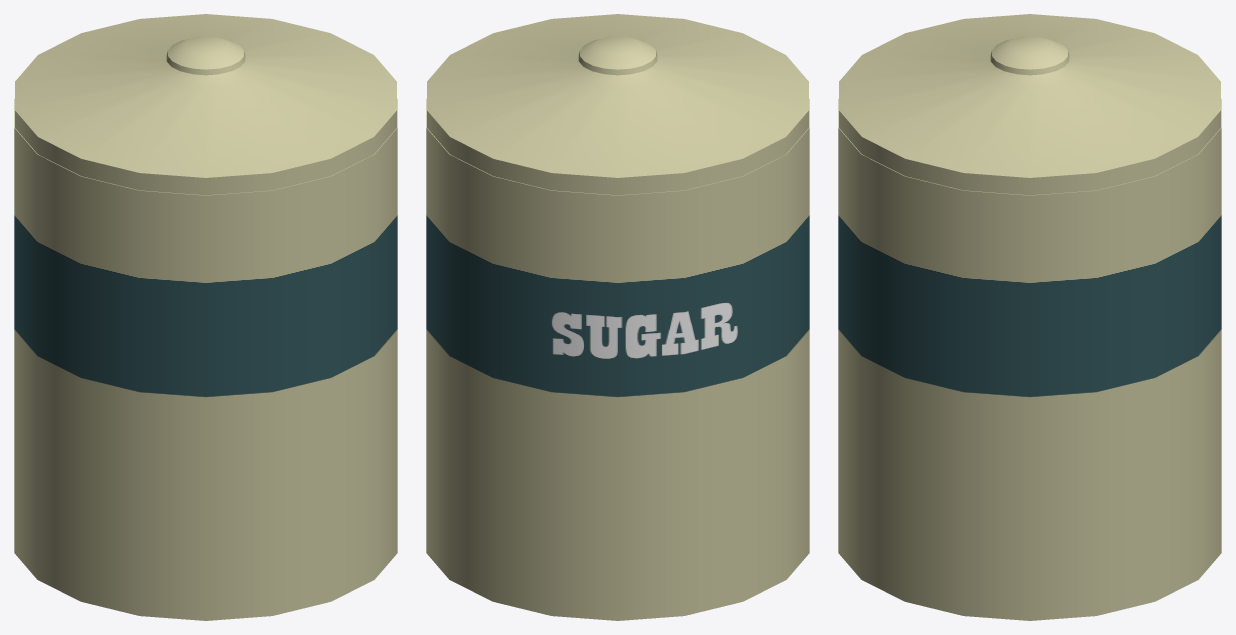
Rendered from SugarJar.fbx.
3 renders of one model, left to right at view 1: azimuth 30°, elevation 25°; view 2: azimuth 150°, elevation 25°; view 3: azimuth 270°, elevation 25°, orthographic.
Visible parts, largest first — view 1: Jar, Top; view 2: Jar, Top; view 3: Jar, Top.
Boxes of the visible parts, x1,y1,x2,y2 form: Jar: (14,99,397,620); Top: (15,14,396,195); Jar: (426,99,809,620); Top: (427,14,808,195); Jar: (838,99,1221,620); Top: (839,14,1220,195).
Size of the model in its own units: 12 by 16.78 by 11.82.
Materials: 1 (1 with a texture image).
